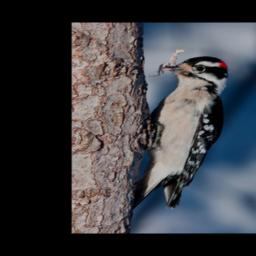Woodpecker: (135, 56, 229, 209)
